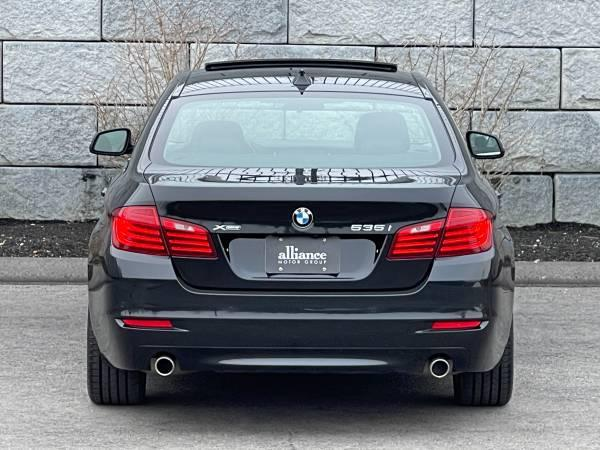Left_Headlight: (109, 205, 221, 264)
Left_Mirror: (90, 127, 132, 156)
Rear_Bumper: (84, 249, 519, 379)
Rear_Windshield: (144, 87, 462, 166)
Right_Mirror: (468, 129, 503, 160)
Right_Taillight: (387, 201, 502, 257)
Roof: (165, 62, 435, 99)
Tailgate: (119, 157, 479, 295)
Wheel: (87, 328, 150, 408), (457, 334, 515, 409)
